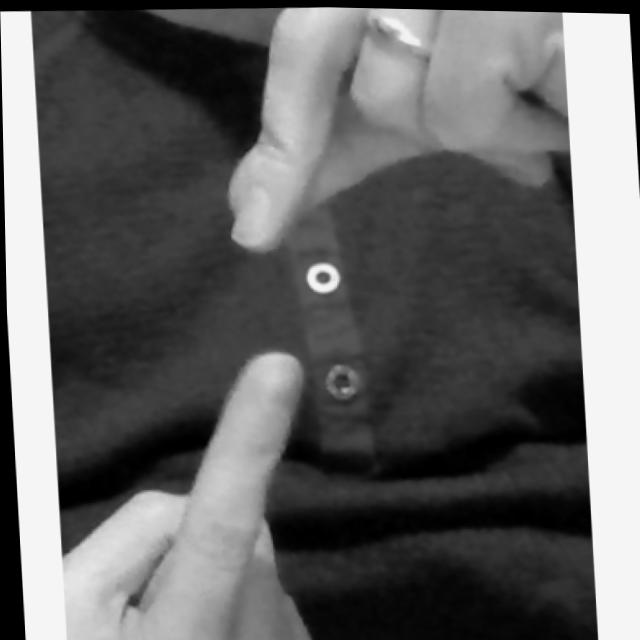I-: (61, 7, 572, 640)
